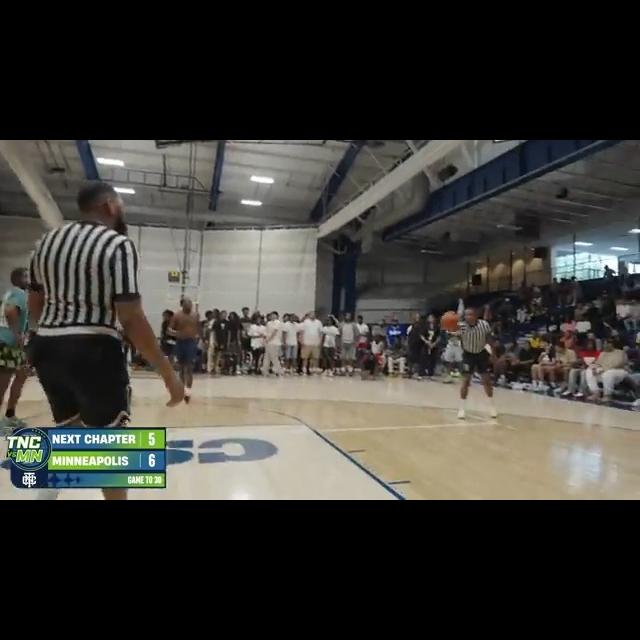basketball: (441, 310, 460, 332)
